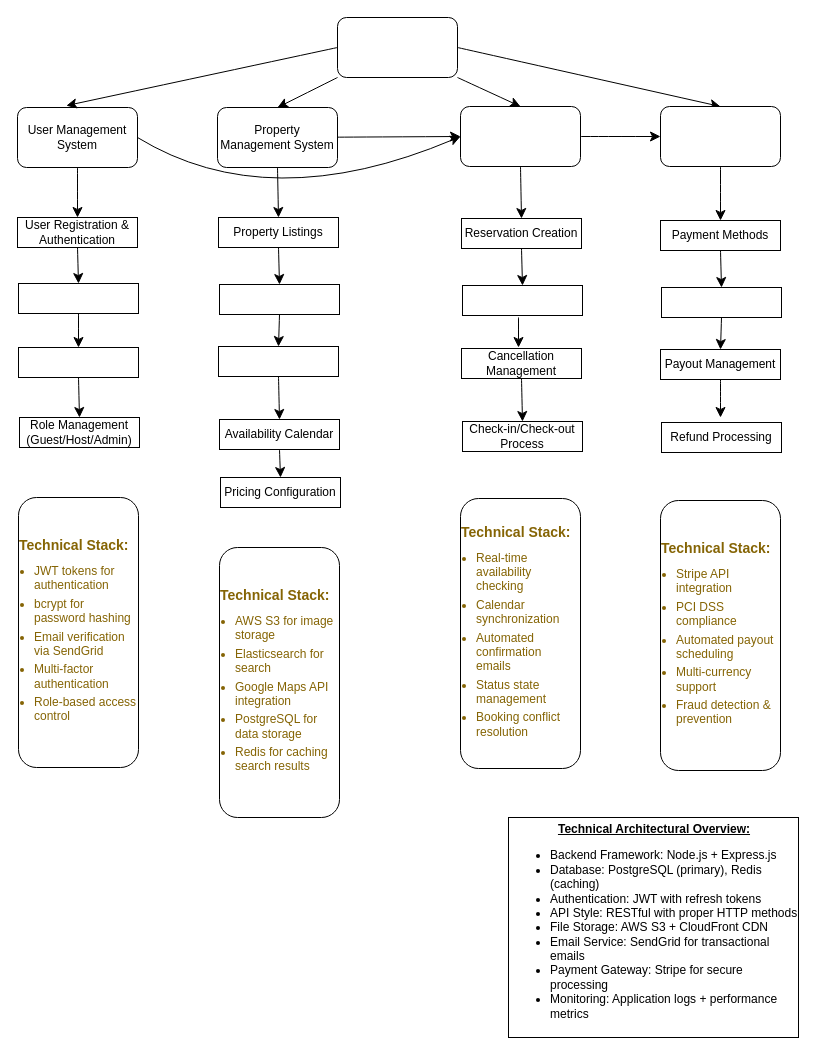
Some shapes in this 816 by 1055 pixel diagram are drawn without their labels. Here are the shapes that lost their labels. From the top down, the centre of each, then its label:
pixel 397 47: Airbnb Clone Backend Features
pixel 520 136: Booking Management System
pixel 720 136: Payment Processing System
pixel 78 298: Profile Management
pixel 279 299: Search & Discovery
pixel 522 300: Booking Status Tracking
pixel 721 302: Transaction Processing
pixel 78 362: User Verification
pixel 278 361: Photo Management
